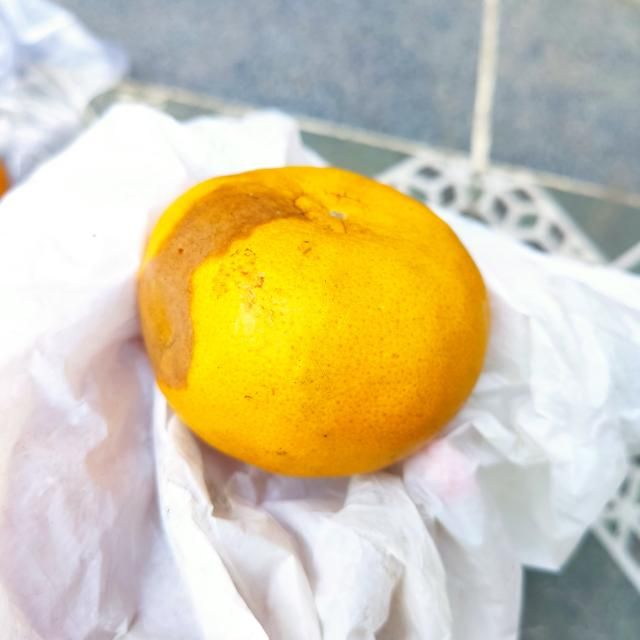orange: (135, 167, 492, 478)
